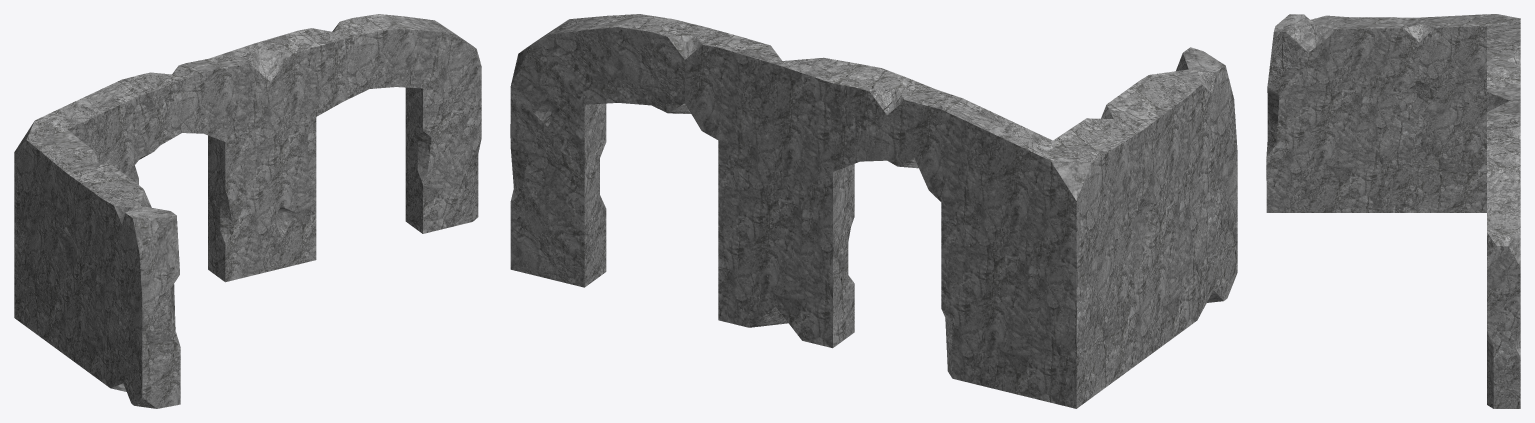
The model's file is materials_3_wall_0.fbx.
3 renders of one model, left to right at view 1: azimuth 30°, elevation 25°; view 2: azimuth 150°, elevation 25°; view 3: azimuth 270°, elevation 25°, orthographic. The views are drawn at different scales.
Parts seen in each view (by area): view 1: materials_3_wall_0; view 2: materials_3_wall_0; view 3: materials_3_wall_0.
Boxes of the visible parts, <box> form: materials_3_wall_0: <box>14,14,481,408</box>; materials_3_wall_0: <box>510,14,1237,408</box>; materials_3_wall_0: <box>1266,14,1520,408</box>.
Size of the model in its own units: 669 by 310 by 336.
